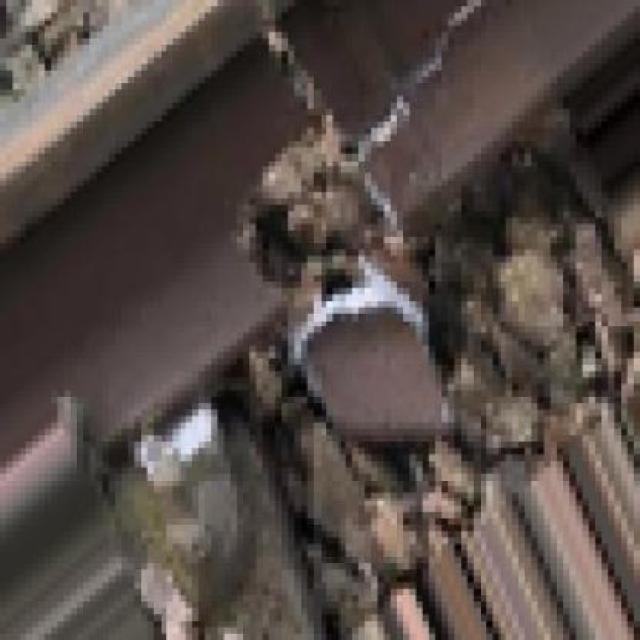defective: (6, 0, 549, 626)
